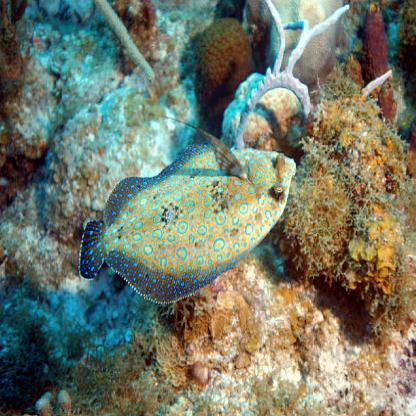flounder: (76, 124, 301, 308)
